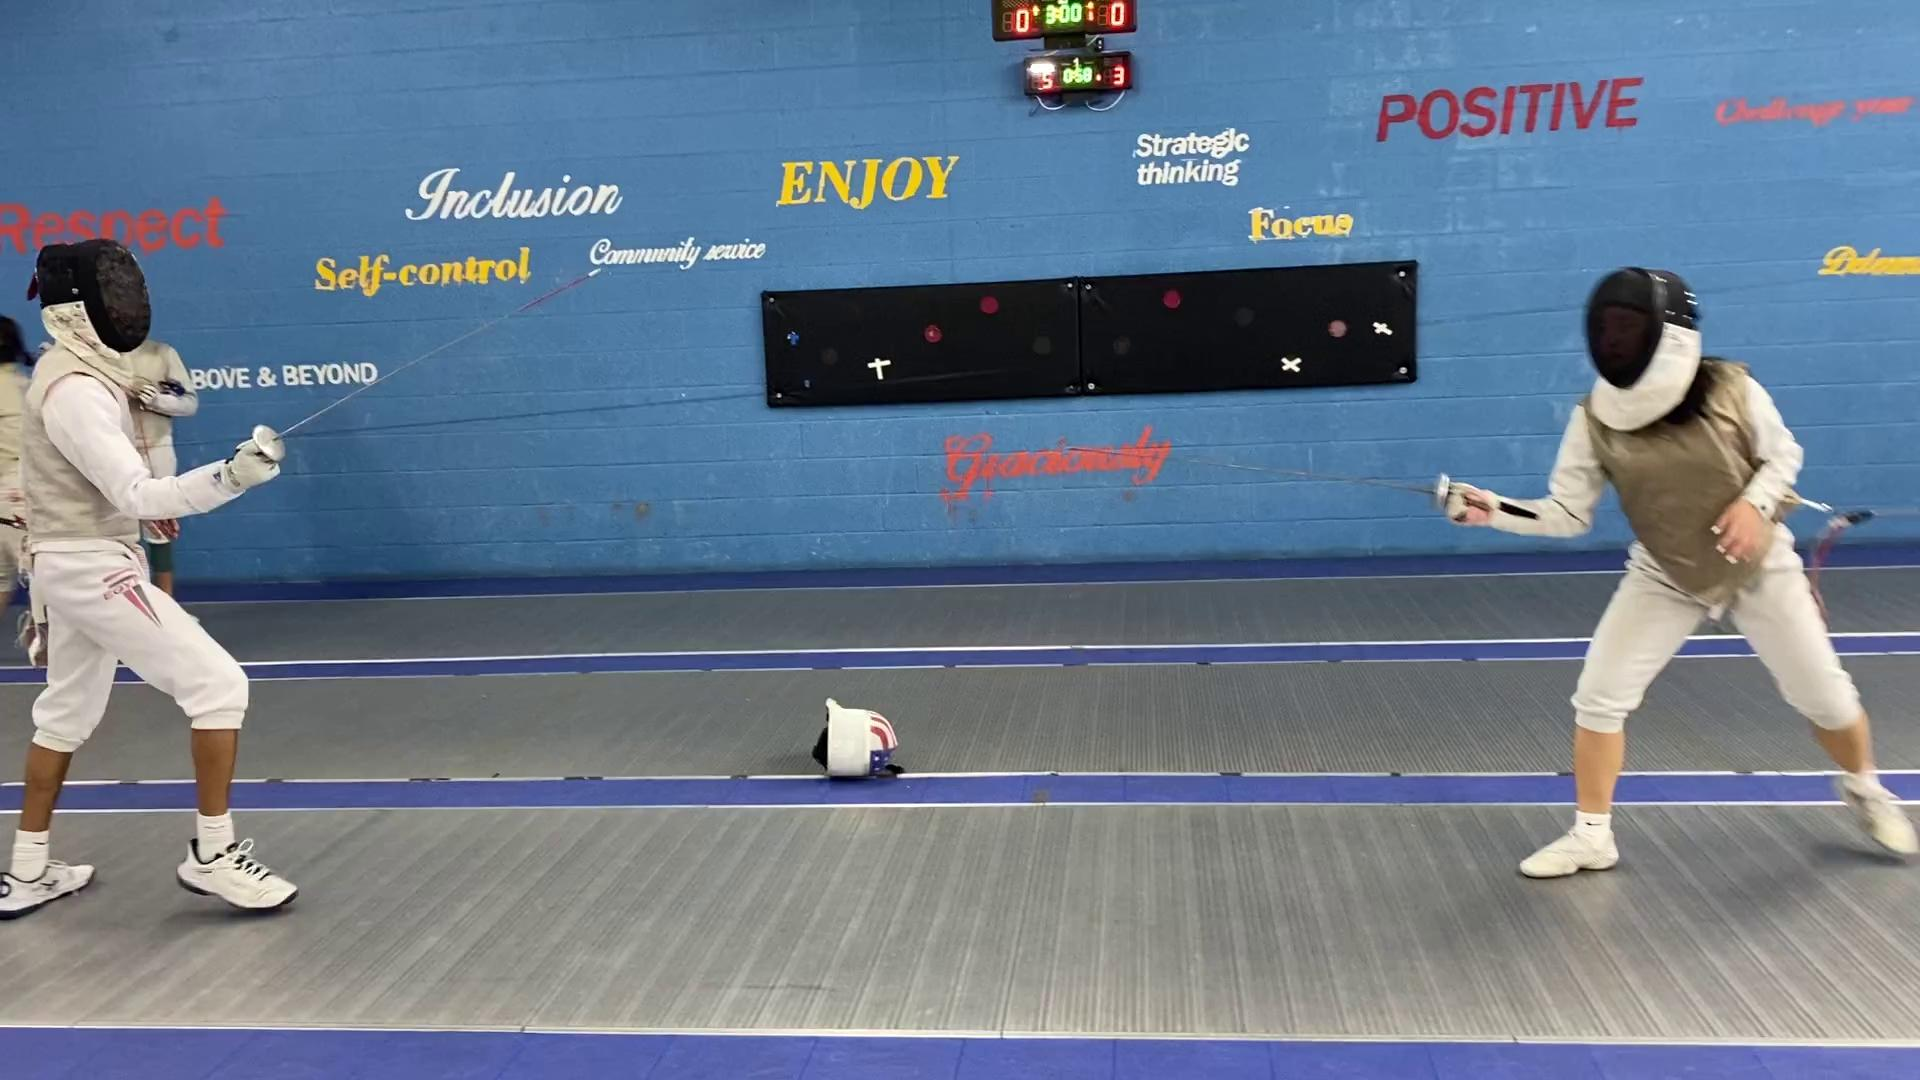blade-guard: (247, 418, 294, 468), (1425, 465, 1455, 521)
blade-tip: (512, 262, 608, 316), (1065, 439, 1151, 463)
fencing-blade: (233, 262, 607, 468), (1065, 436, 1495, 529)
